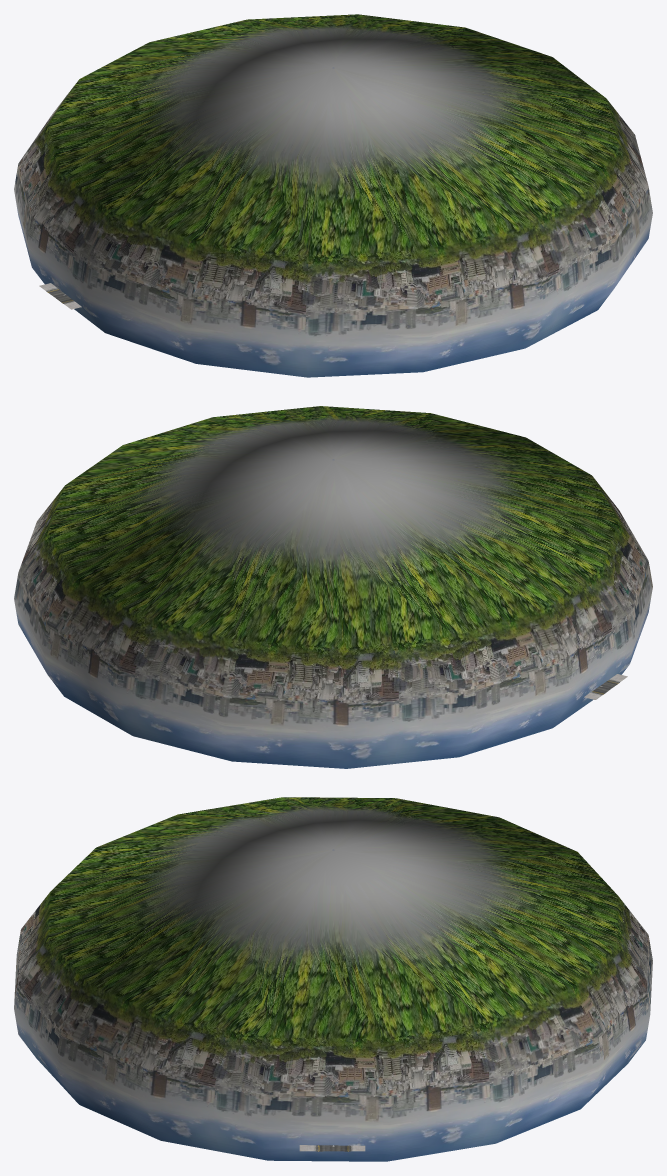
The model's file is Trailer_Park.glb.
3 renders of one model, top to bottom at view 1: azimuth 30°, elevation 25°; view 2: azimuth 150°, elevation 25°; view 3: azimuth 270°, elevation 25°, orthographic.
Parts seen in each view (by area): view 1: Trailer_Park; view 2: Trailer_Park; view 3: Trailer_Park.
Part boxes in pixels (box(x1,y1,x2,y2)): Trailer_Park: box(14, 14, 652, 377); Trailer_Park: box(14, 406, 652, 768); Trailer_Park: box(14, 797, 652, 1161).
Size of the model in its own units: 1039 by 328 by 1018.
Materials: 11 (11 with a texture image).
